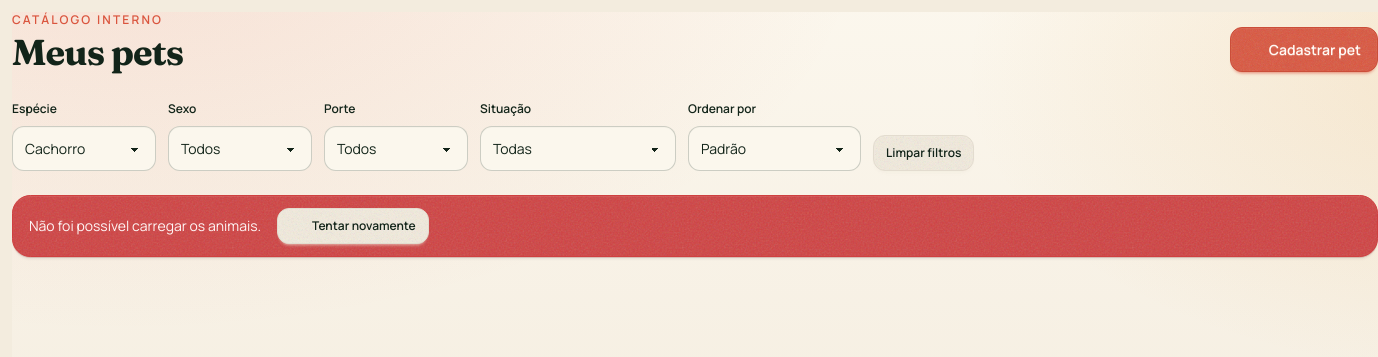
Test case: AnimalListPage › retries with the current filters after a list failure
What coordinates should you click on to do the following:
click the button "Tentar novamente"
I would click on:
 (353, 226)
Its box is [277,208,429,244].
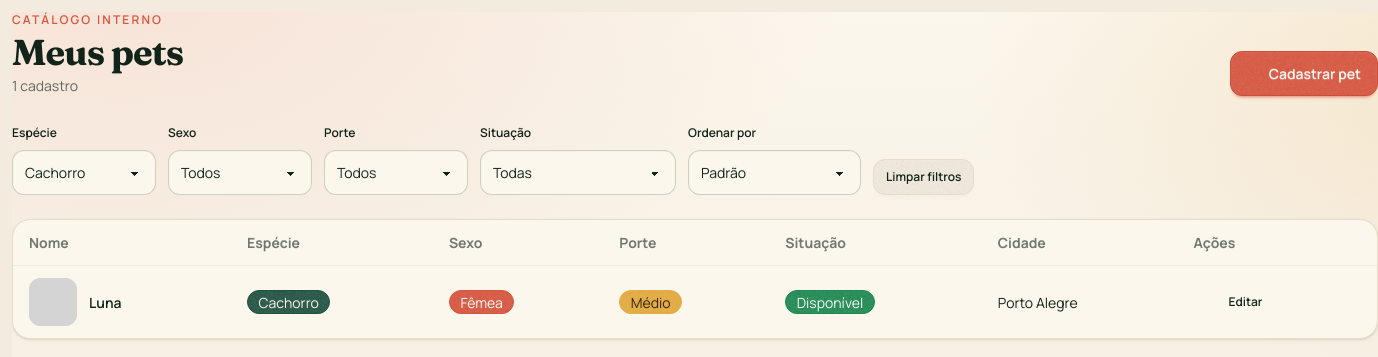
Now the table shows "Luna", box [89,292,122,312]
